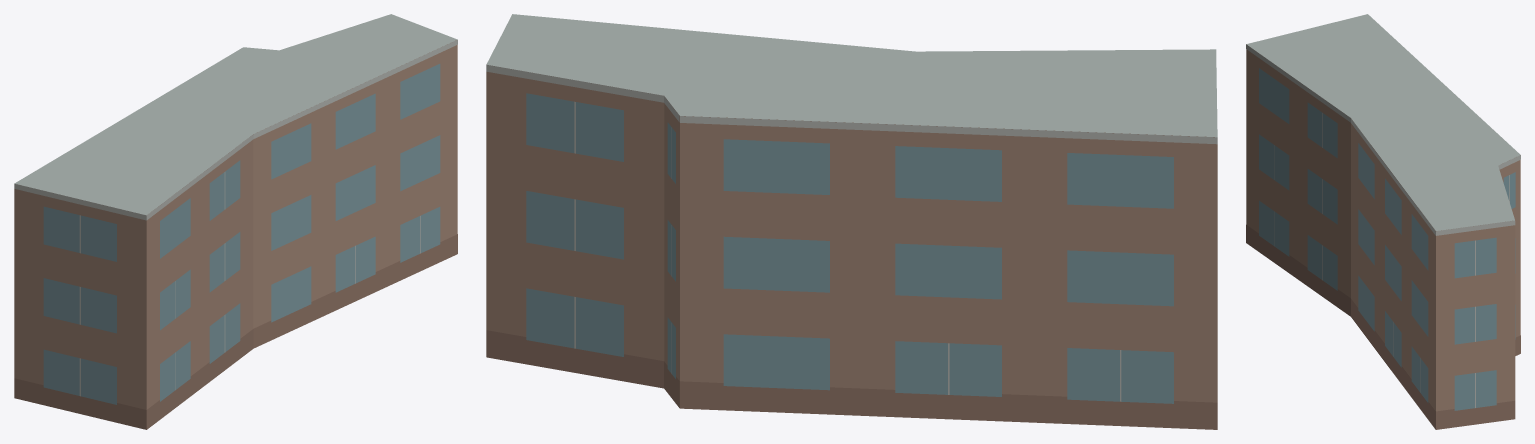
The model's file is survey-upis-32475056.glb.
3 renders of one model, left to right at view 1: azimuth 30°, elevation 25°; view 2: azimuth 150°, elevation 25°; view 3: azimuth 270°, elevation 25°, orthographic. The views are drawn at different scales.
Visible parts, largest first — view 1: survey-upis-32475056.tmp; view 2: survey-upis-32475056.tmp; view 3: survey-upis-32475056.tmp.
Part boxes in pixels (box(x1,y1,x2,y2)): survey-upis-32475056.tmp: box(14, 14, 457, 429); survey-upis-32475056.tmp: box(486, 14, 1217, 429); survey-upis-32475056.tmp: box(1246, 14, 1520, 429).
Bounding box in the file's own units: 23.91 × 10.2 × 12.78.
